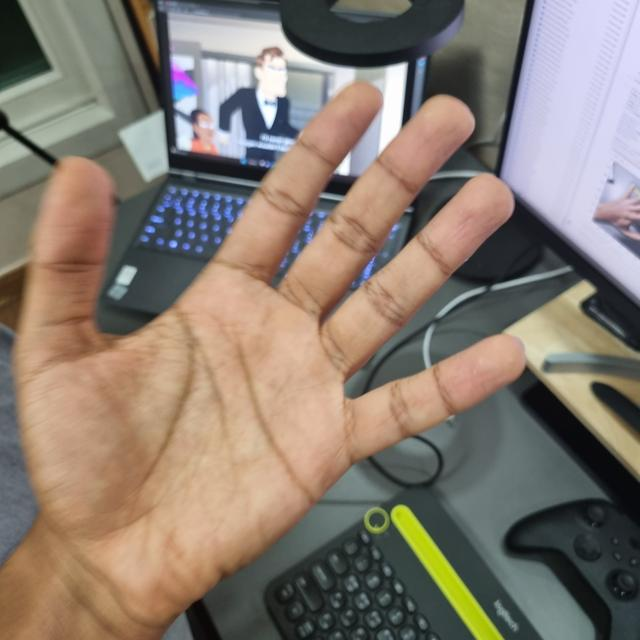Paper: (14, 76, 529, 609)
